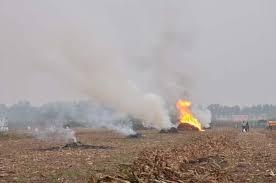fire: (171, 96, 209, 132)
